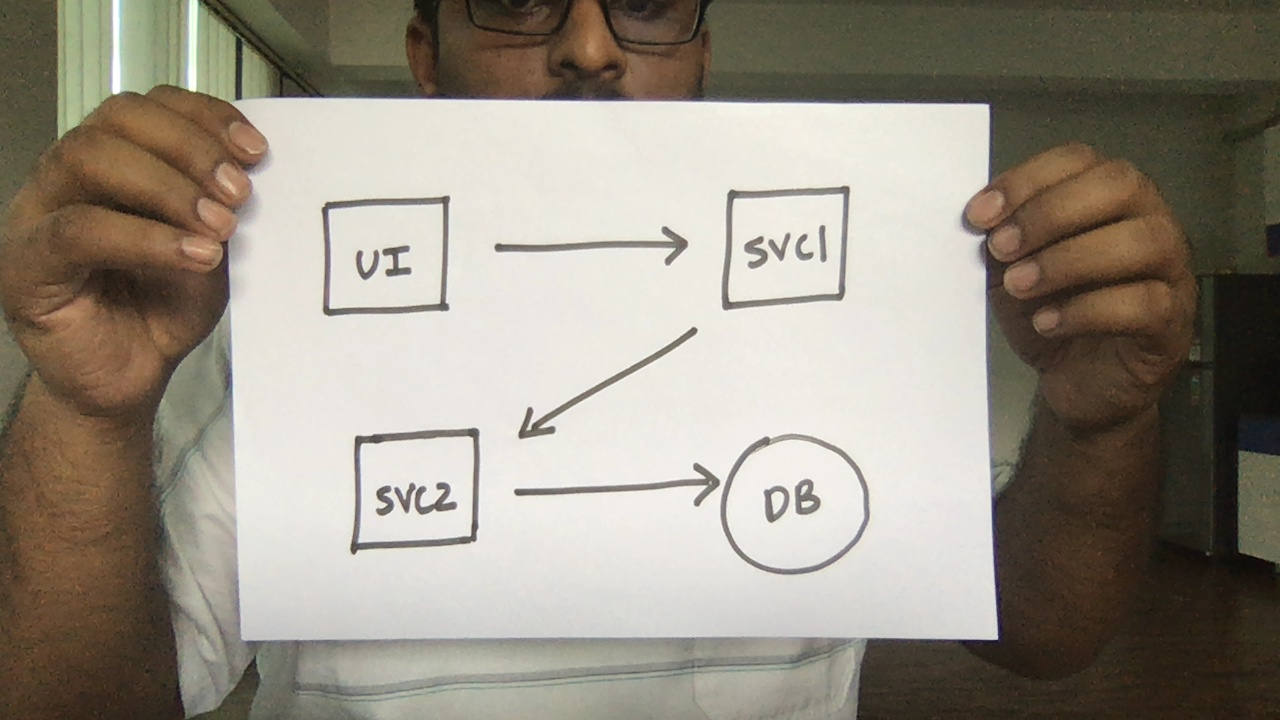arrow: (502, 312, 713, 449), (501, 452, 725, 532), (487, 209, 706, 285)
db: (711, 424, 877, 575)
ec2: (345, 422, 485, 560), (717, 182, 856, 314)
ui: (315, 190, 461, 326)
